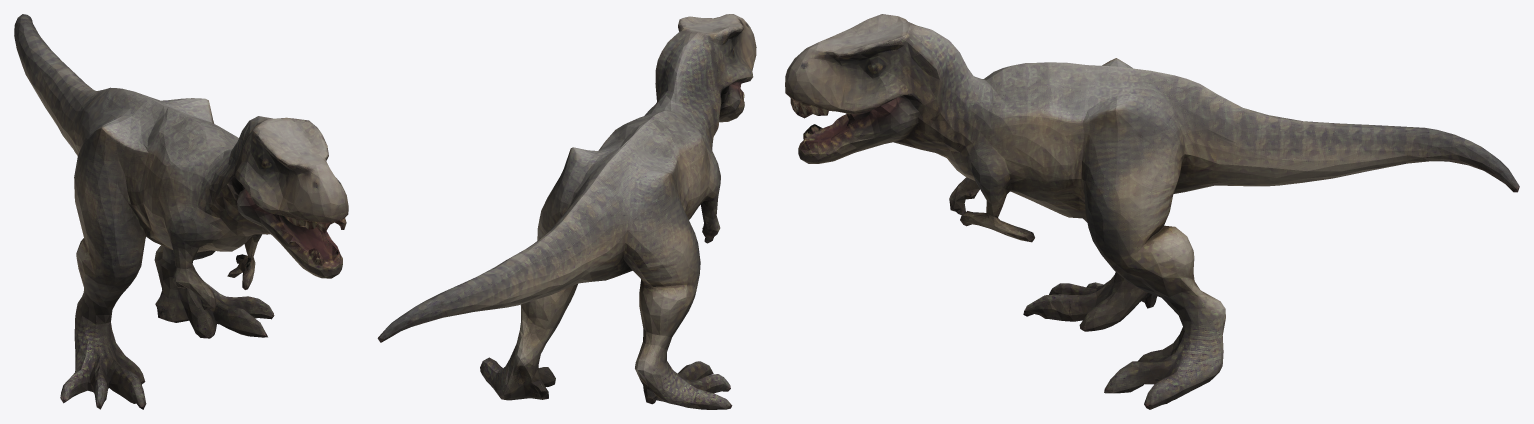
File: niknet_art-tyrannosaurus-3232.glb
3 renders of one model, left to right at view 1: azimuth 30°, elevation 25°; view 2: azimuth 150°, elevation 25°; view 3: azimuth 270°, elevation 25°, orthographic. The views are drawn at different scales.
Visible parts, largest first — view 1: world; view 2: world; view 3: world.
Part boxes in pixels (x1,y1,x2,y2): world: (14, 14, 348, 409); world: (377, 14, 756, 409); world: (785, 14, 1519, 409).
Size of the model in its own units: 0.3968 by 0.4961 by 1.
Materials: 1 (1 with a texture image).
